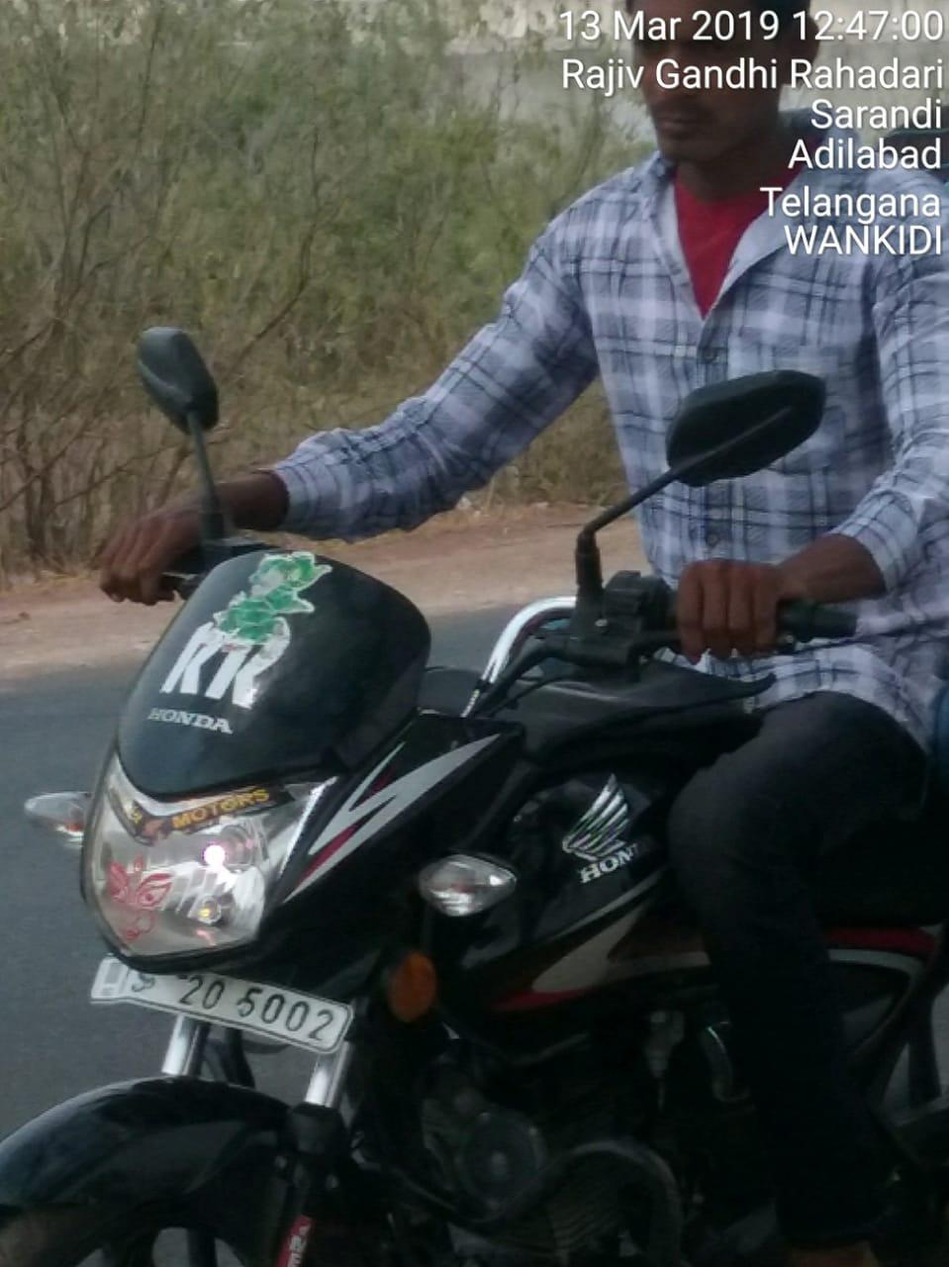plate: (82, 942, 360, 1064)
